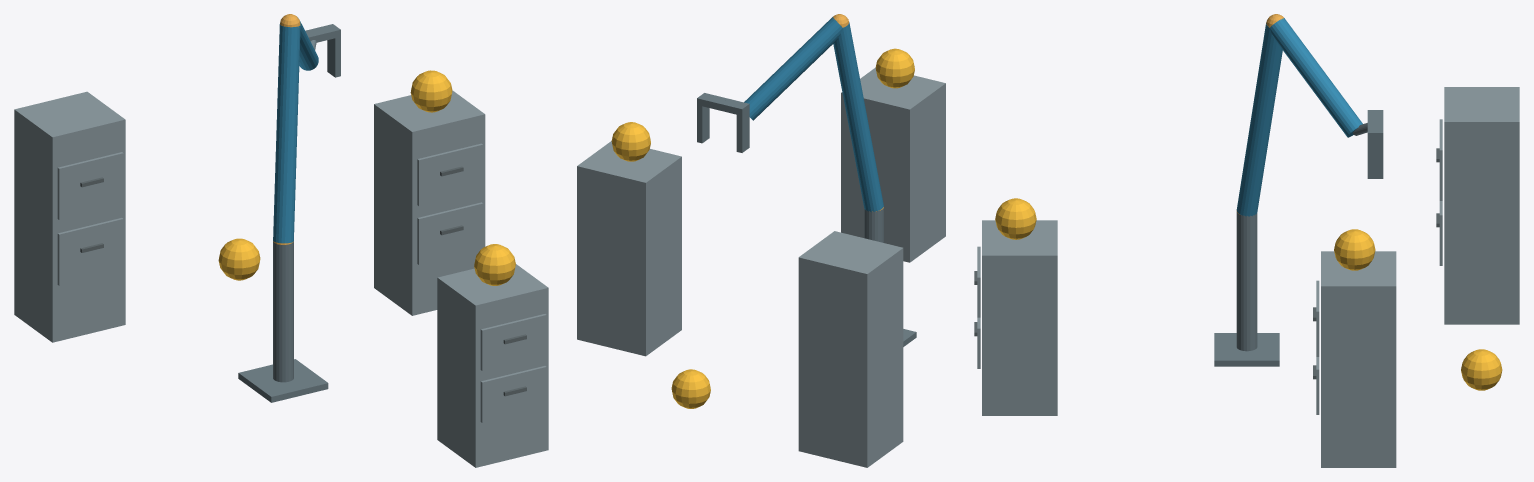
The picture shows the model from 3 angles, left to right: view 1: azimuth 30°, elevation 25°; view 2: azimuth 150°, elevation 25°; view 3: azimuth 270°, elevation 25°; orthographic projection. The views are drawn at different scales.
Visible parts, largest first — view 1: cabinet_3 body, cabinet_1 body, cabinet_2 body, moving link 1, cabinet_3 drawer front, cabinet_3 drawer front.001, cabinet_2 drawer front.001, cabinet_2 drawer front, fixed post, cabinet_1 drawer front, cabinet_1 drawer front.001, pedestal (+4 smaller); view 2: cabinet_3 body, cabinet_2 body, cabinet_1 body, moving link 1, moving link 2, released ball_1, ball ball_3, released ball_2, gripper bridge, fixed post, gripper finger -1, gripper finger 1; view 3: cabinet_3 body, cabinet_2 body, cabinet_1 body, moving link 1, fixed post, moving link 2, pedestal, released ball_1, ball ball_3, released ball_2, gripper finger 1.
Part boxes in pixels (x1,y1,x2,y2): cabinet_3 body: (14, 91, 125, 342); cabinet_1 body: (437, 264, 548, 467); cabinet_2 body: (374, 90, 485, 315); moving link 1: (273, 24, 300, 243); cabinet_3 drawer front: (57, 218, 123, 285); cabinet_3 drawer front.001: (57, 152, 123, 219); cabinet_2 drawer front.001: (417, 143, 483, 206); cabinet_2 drawer front: (417, 202, 483, 264); fixed post: (273, 241, 293, 382); cabinet_1 drawer front: (480, 366, 546, 422); cabinet_1 drawer front.001: (480, 314, 546, 370); pedestal: (238, 359, 328, 402); cabinet_3 body: (798, 231, 903, 467); cabinet_2 body: (577, 141, 681, 356); cabinet_1 body: (841, 67, 945, 262); moving link 1: (833, 22, 883, 212); moving link 2: (744, 17, 842, 120); released ball_1: (875, 48, 914, 88); ball ball_3: (671, 369, 710, 408); released ball_2: (611, 122, 650, 161); gripper bridge: (697, 93, 749, 115); fixed post: (864, 208, 883, 242); gripper finger -1: (736, 111, 749, 152); gripper finger 1: (697, 105, 709, 143); cabinet_3 body: (1444, 87, 1519, 324); cabinet_2 body: (1321, 251, 1396, 467); cabinet_1 body: (982, 220, 1057, 415); moving link 1: (1236, 23, 1282, 216); fixed post: (1236, 212, 1257, 351); moving link 2: (1270, 18, 1362, 137); pedestal: (1214, 333, 1279, 366); released ball_1: (995, 198, 1036, 239); ball ball_3: (1461, 349, 1502, 390); released ball_2: (1334, 229, 1375, 270); gripper finger 1: (1367, 140, 1383, 178).
Size of the model in its own units: 1.62 by 1.48 by 2.1.
